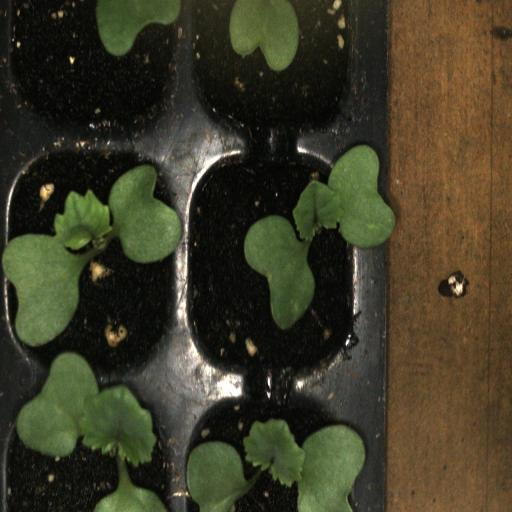Folha: (223, 0, 300, 73), (96, 0, 182, 57), (93, 469, 167, 512)
Germinacao: (181, 138, 377, 386), (2, 134, 182, 390), (183, 390, 376, 508), (2, 386, 182, 512)
